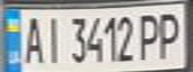1: (103, 12, 121, 63)
2: (115, 11, 139, 63)
3: (66, 12, 87, 64)
4: (84, 12, 106, 63)
A: (18, 12, 45, 64)
I: (39, 12, 66, 65)
P: (154, 8, 187, 61), (136, 10, 163, 61)
